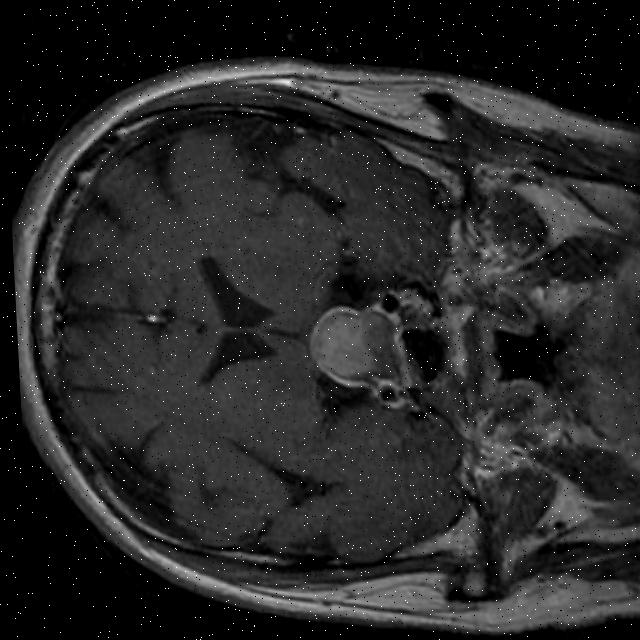Pituitary: (309, 303, 408, 390)
